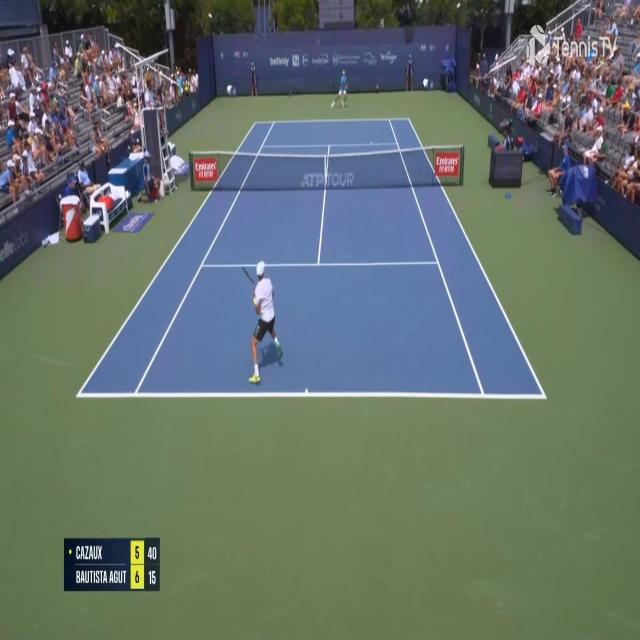tennis-player: (244, 257, 284, 387), (330, 67, 350, 110)
